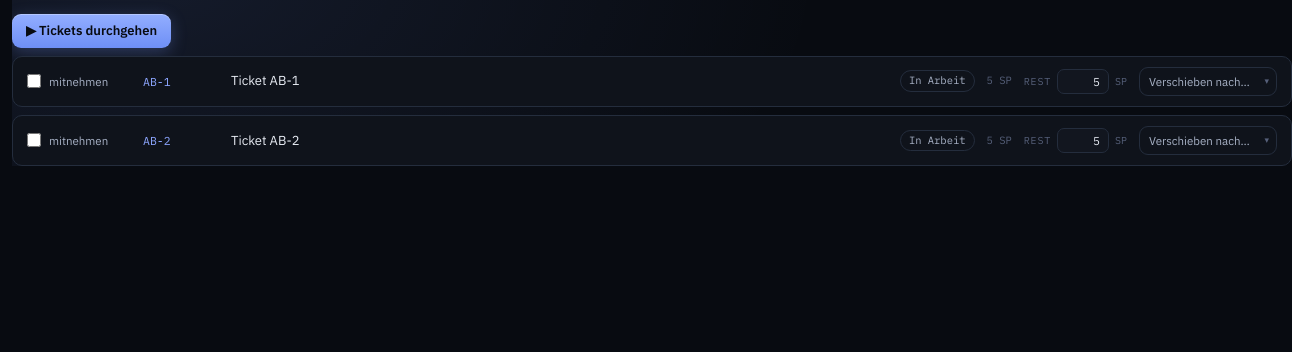
Test: CarryOverList Durchgeh-Modus › navigiert mit den Pfeiltasten und beendet mit Escape
Click the button "▶ Tickets durchgehen". click: (92, 31)
box: [12, 14, 171, 48]
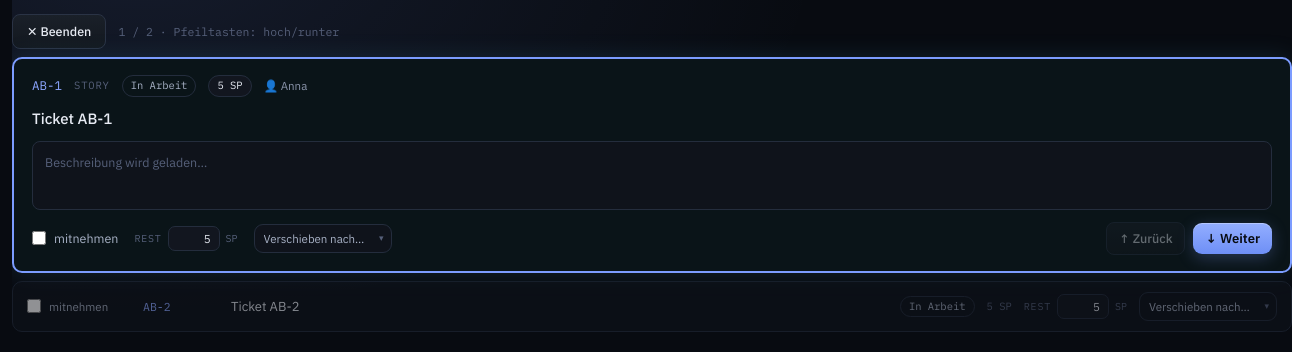
Press ArrowDown
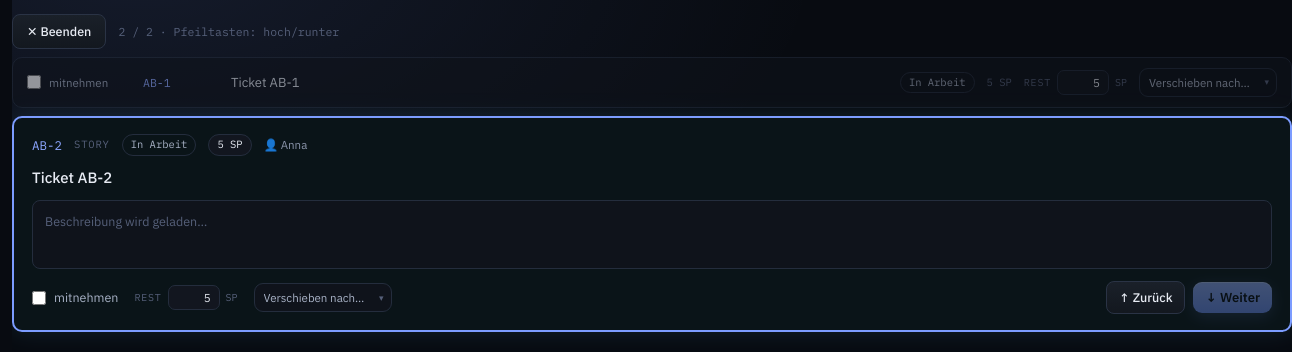
Check: the text "2 / 2" is shown, box [118, 23, 339, 40]
Press Escape
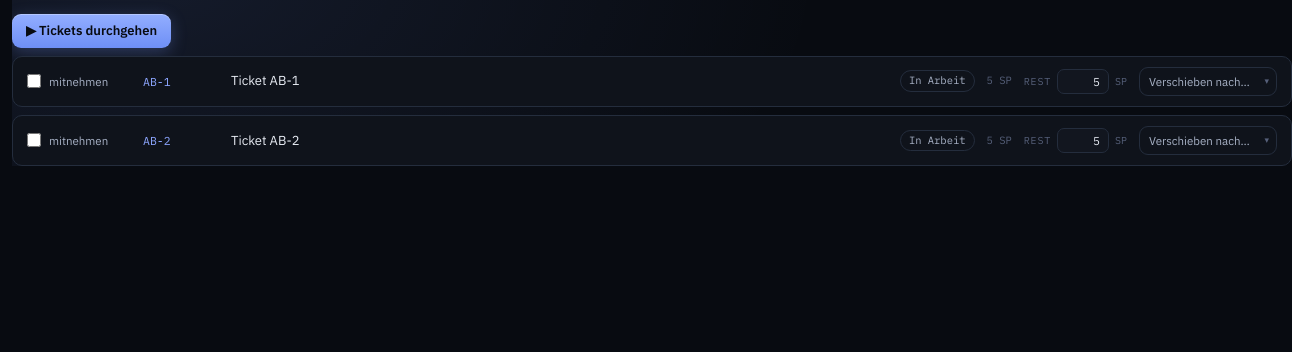
Check: the text "2 / 2" is gone
Check: the button "▶ Tickets durchgehen" is shown, box [12, 14, 171, 48]
